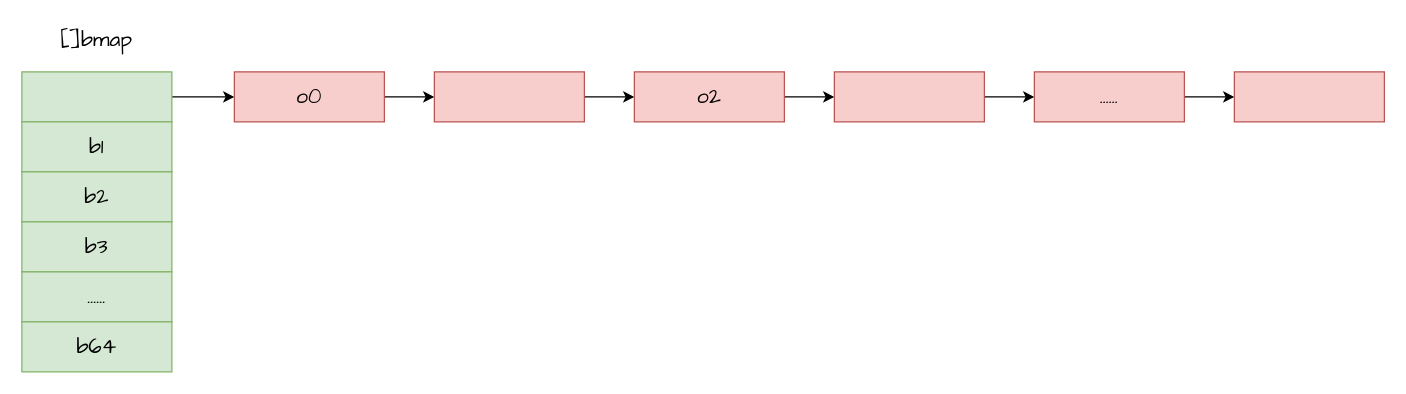
Image size: 1406x394. Some labels were removed from this diagram. The shapes that lost their labels are listed below. From the top down, each one's centre as x and y in pixels, then its label:
At (96,96): "b0".
At (508,96): "o1".
At (908,96): "o3".
At (1308,96): "o128".
